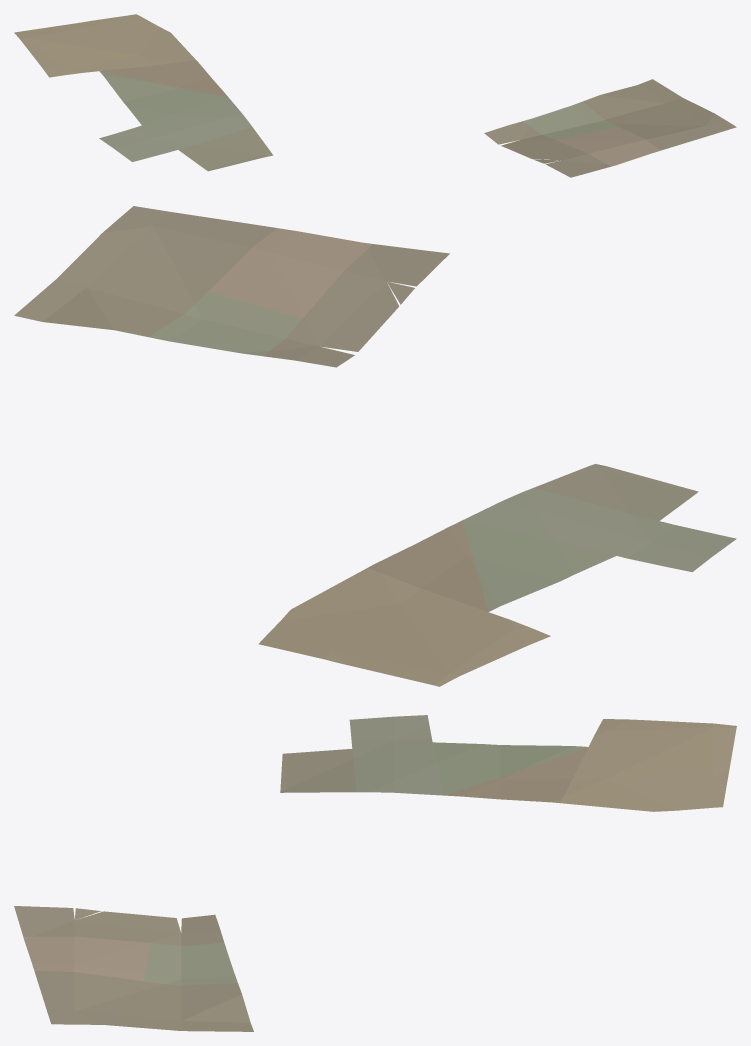
The model's file is farm_4_15_soil.glb.
3 renders of one model, top to bottom at view 1: azimuth 30°, elevation 25°; view 2: azimuth 150°, elevation 25°; view 3: azimuth 270°, elevation 25°, orthographic. The views are drawn at different scales.
Parts seen in each view (by area): view 1: geometry_0; view 2: geometry_0; view 3: geometry_0.
Part boxes in pixels (x1=…): geometry_0: x1=14, y1=14, x2=736, y2=177; geometry_0: x1=14, y1=206, x2=736, y2=686; geometry_0: x1=14, y1=715, x2=736, y2=1031.
Bounding box in the file's own units: 547 × 22.08 × 544.
